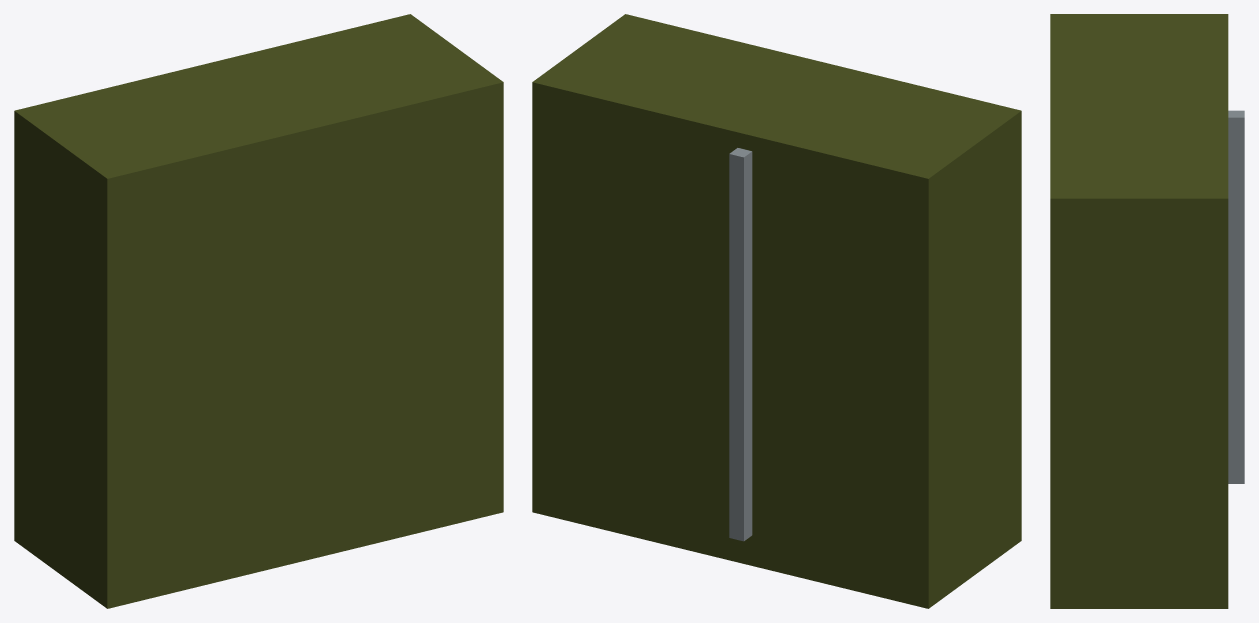
The model's file is apc_wall_locker.glb.
The picture shows the model from 3 angles, left to right: view 1: azimuth 30°, elevation 25°; view 2: azimuth 150°, elevation 25°; view 3: azimuth 270°, elevation 25°; orthographic projection. The views are drawn at different scales.
Parts seen in each view (by area): view 1: body:compound; view 2: body:compound; view 3: body:compound.
Boxes of the visible parts, x1,y1,x2,y2 form: body:compound: (14, 14, 503, 608); body:compound: (532, 14, 1021, 608); body:compound: (1050, 14, 1244, 608).
Bounding box in the file's own units: 0.8438 × 0.875 × 0.375.
